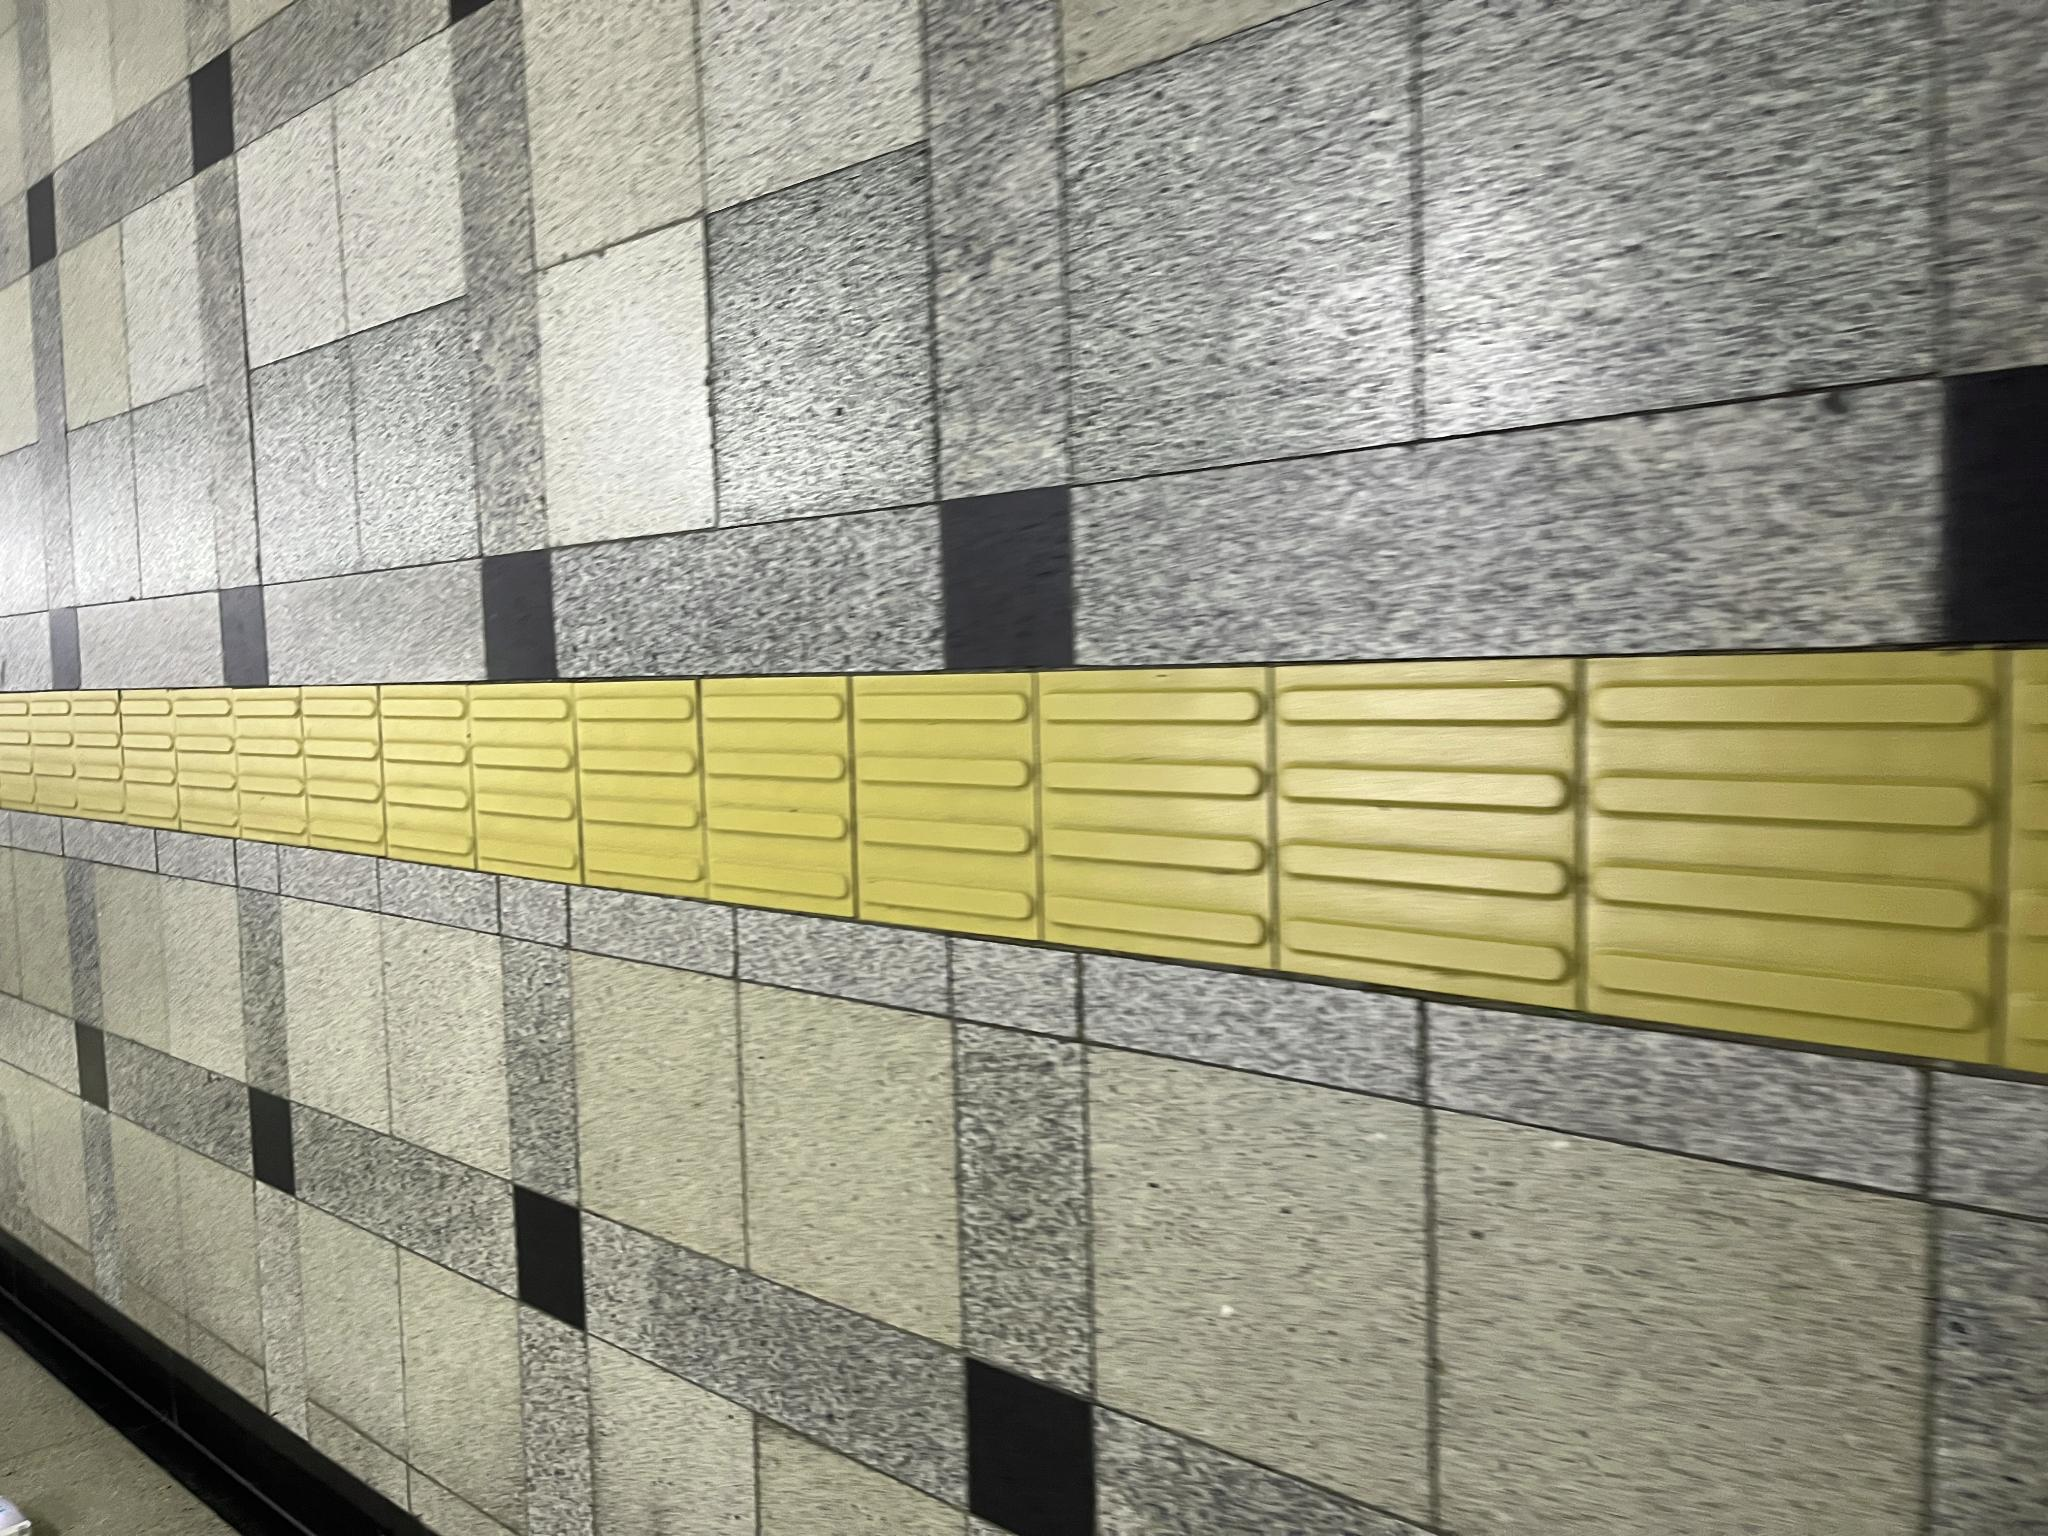Straight block normal: (532, 1275, 877, 1536), (569, 1041, 868, 1270), (598, 850, 860, 1037), (622, 702, 858, 852), (639, 576, 855, 703), (653, 470, 851, 579), (666, 382, 850, 474)
